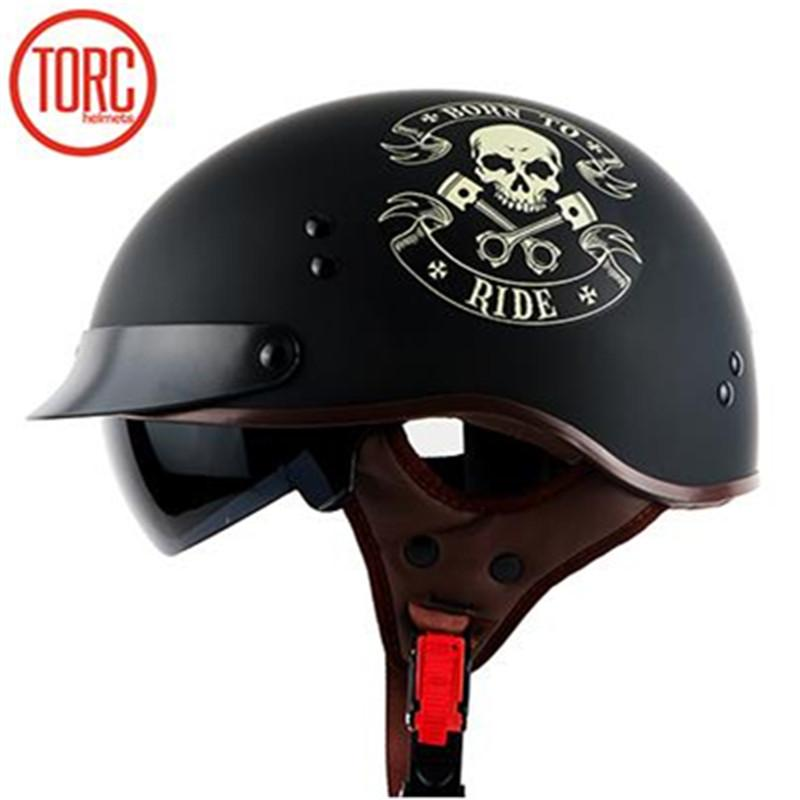with_helmet: (17, 83, 800, 799)
